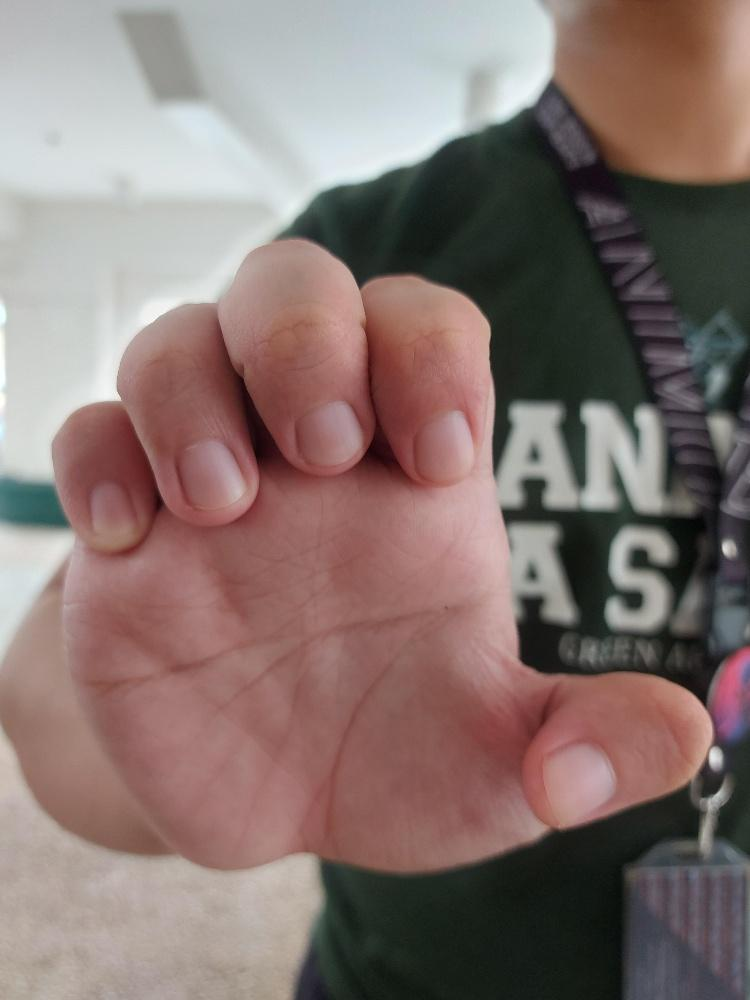e: (46, 234, 715, 877)
